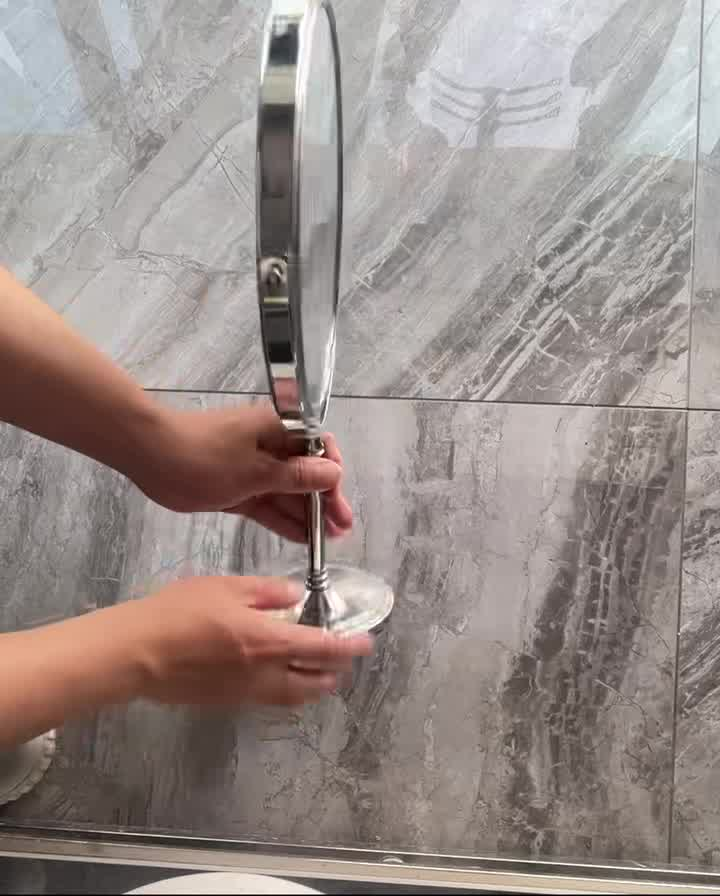base: (230, 550, 402, 672)
frame: (294, 441, 366, 597)
mirror: (249, 11, 391, 425)
screw: (264, 265, 280, 293)
